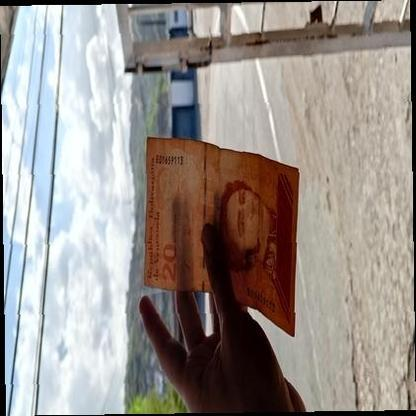vef_front: (142, 136, 300, 337)
